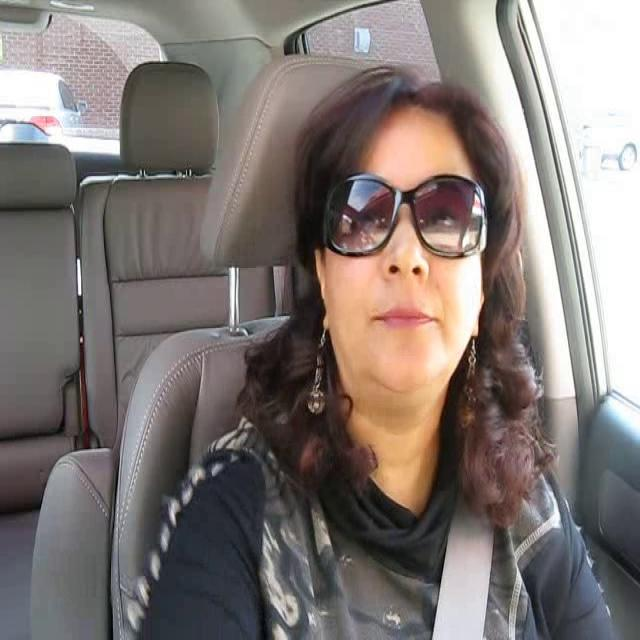close: (363, 297, 444, 336)
